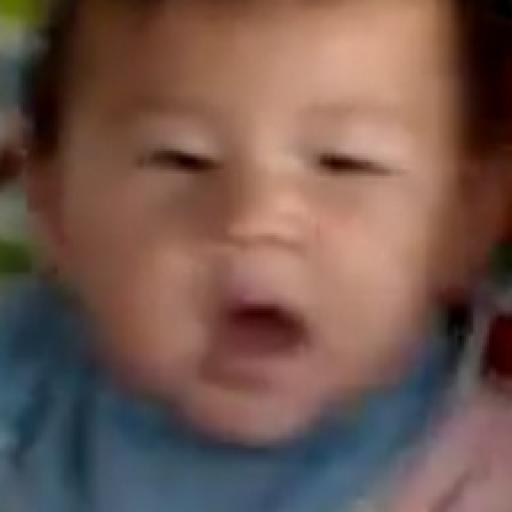Autism: (30, 6, 512, 482)
